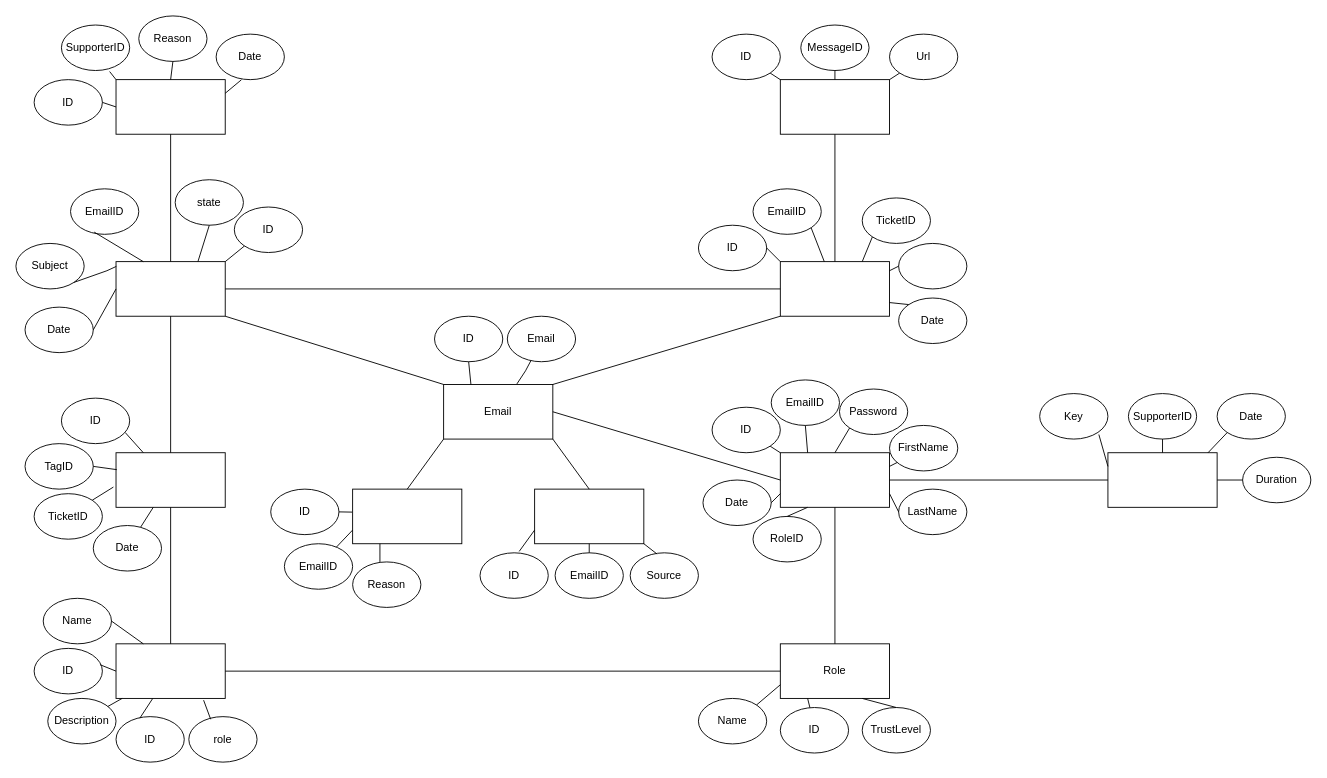
The diagram is 1327 pixels wide and 778 high, and some of its shapes have lost their labels. Each missing label, with the centre of its shape:
ApiKey: the point at 1162,479
Archive: the point at 170,106
Attachments: the point at 834,106
Blacklist: the point at 407,516
Content: the point at 932,266
Messages: the point at 834,288
Supporter: the point at 834,479
Tag: the point at 170,670
Ticket: the point at 170,288
TicketTag: the point at 170,479
Whitelist: the point at 589,516
